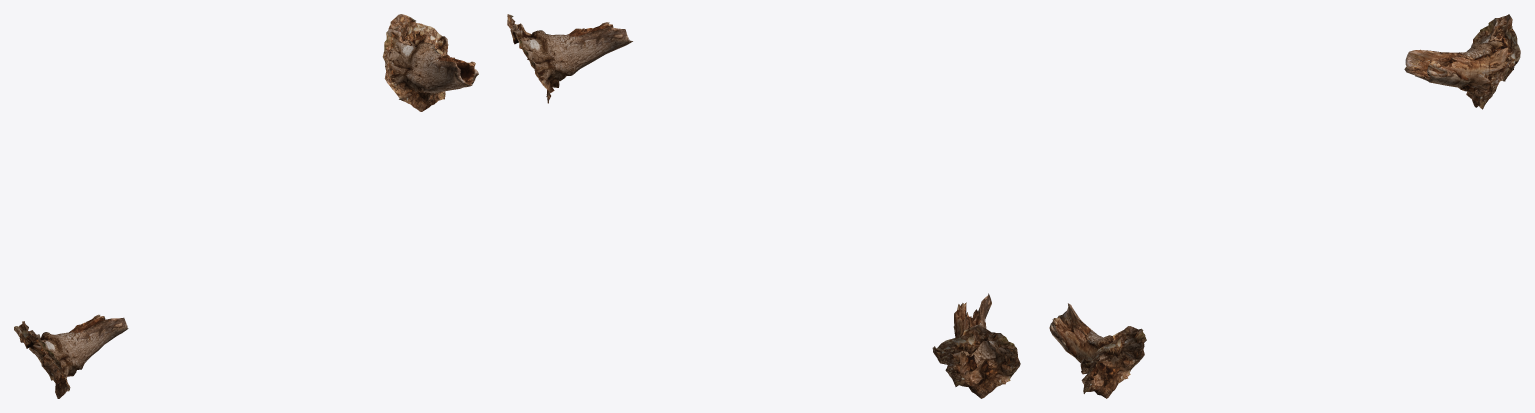
Rendered from Dead_tree.glb.
3 views of the same model, side by side, from view 1: azimuth 90°, elevation 25°; view 2: azimuth 150°, elevation 25°; view 3: azimuth 270°, elevation 25° (orthographic). The views are drawn at different scales.
Parts seen in each view (by area): view 1: DeadStump01_Quads_Default OBJ_0, DeadStump01_Quads_Default OBJ_0.001; view 2: DeadStump01_Quads_Default OBJ_0.001, DeadStump01_Quads_Default OBJ_0; view 3: DeadStump01_Quads_Default OBJ_0.001, DeadStump01_Quads_Default OBJ_0.
Boxes of the visible parts, <box> form: DeadStump01_Quads_Default OBJ_0: <box>382,14,478,111</box>; DeadStump01_Quads_Default OBJ_0.001: <box>14,314,128,398</box>; DeadStump01_Quads_Default OBJ_0.001: <box>932,293,1020,398</box>; DeadStump01_Quads_Default OBJ_0: <box>507,14,632,103</box>; DeadStump01_Quads_Default OBJ_0.001: <box>1404,14,1520,109</box>; DeadStump01_Quads_Default OBJ_0: <box>1049,303,1146,398</box>.
Size of the model in its own units: 8.93 by 1.1 by 5.43.
1 material, 1 textured.
